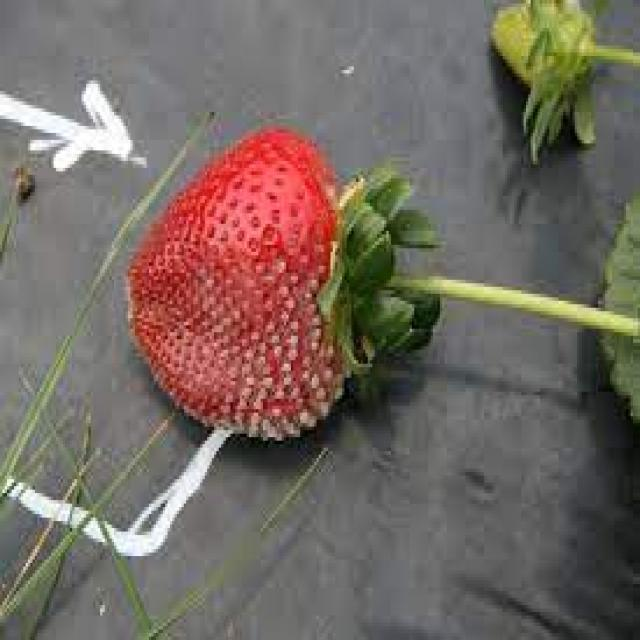Oído: (124, 120, 376, 457)
